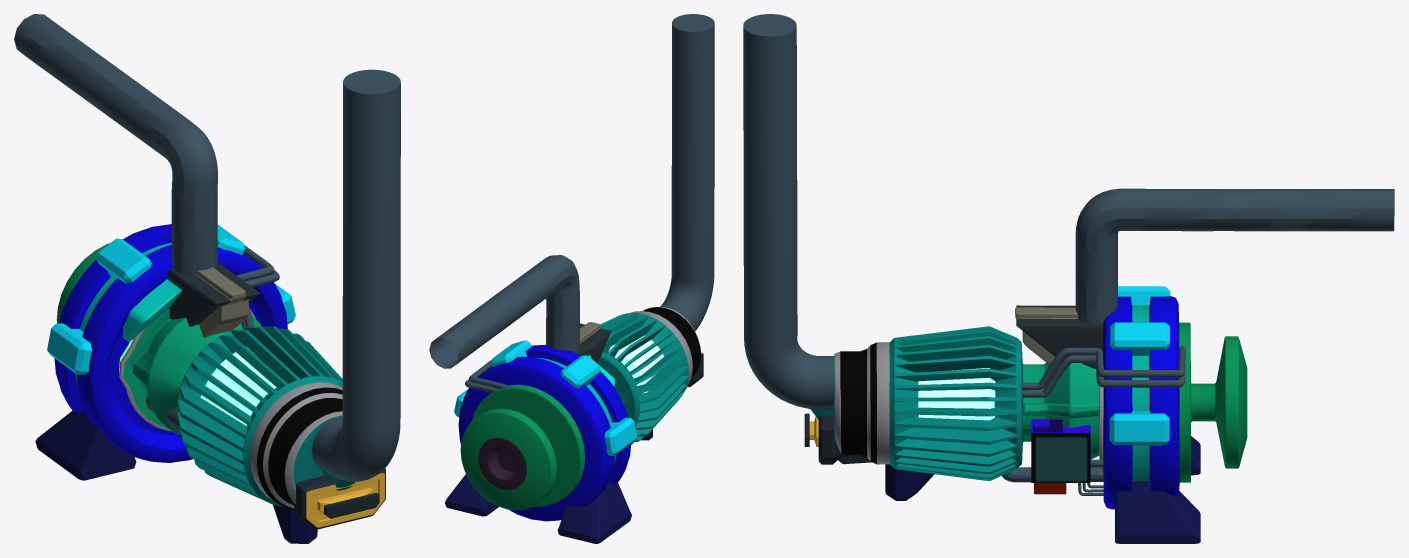
Rendered from water_pump.fbx.
3 renders of one model, left to right at view 1: azimuth 30°, elevation 25°; view 2: azimuth 150°, elevation 25°; view 3: azimuth 270°, elevation 25°, orthographic. The views are drawn at different scales.
Parts seen in each view (by area): view 1: Core.001; view 2: Core.001; view 3: Core.001.
Part boxes in pixels (<box>): Core.001: <box>14,14,400,543</box>; Core.001: <box>429,14,714,543</box>; Core.001: <box>743,14,1394,543</box>.
Size of the model in its own units: 312 by 691 by 860.
